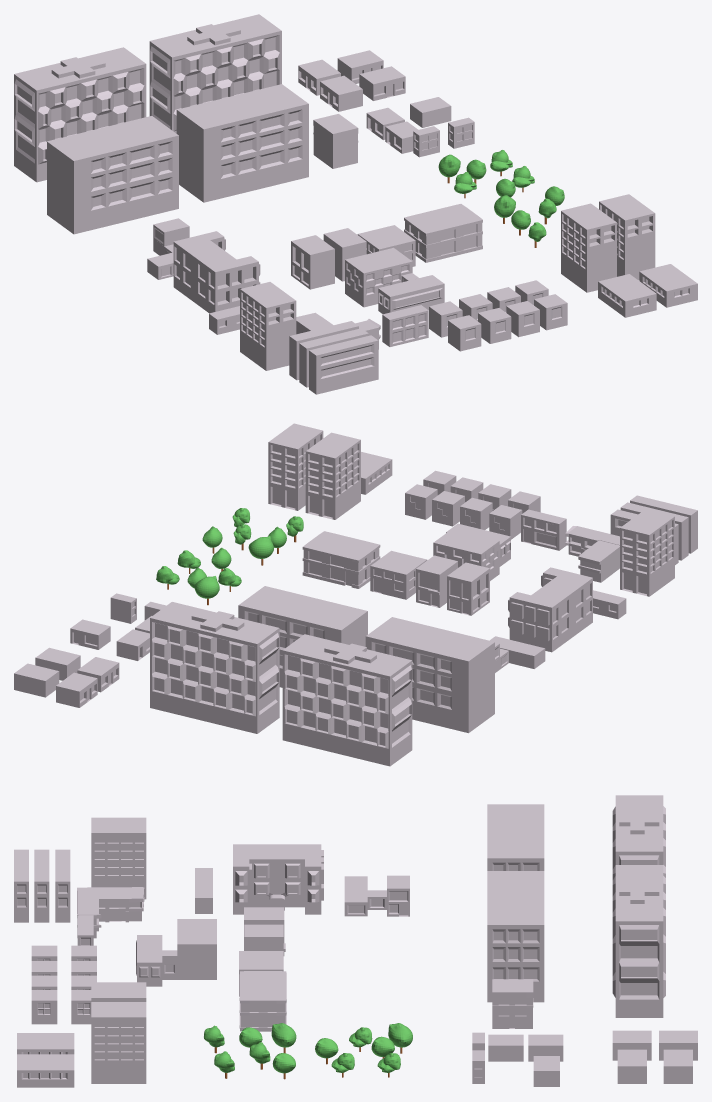
Rendered from city - new map.fbx.
3 views of the same model, one above another, from view 1: azimuth 30°, elevation 25°; view 2: azimuth 150°, elevation 25°; view 3: azimuth 270°, elevation 25° (orthographic). The views are drawn at different scales.
Visible parts, largest first — view 1: Cube.003, Cube.041, Cube.025, Cube.042, Cube.040, Cube.037, Cube.028, Cube.021, Cube.010, Cube.029, Cube.008, Cube.031 (+27 smaller); view 2: Cube.025, Cube.042, Cube.003, Cube.040, Cube.041, Cube.028, Cube.037, Cube.021, Cube.029, Cube.008, Cube.004, Cube.015 (+25 smaller); view 3: Cube.042, Cube.041, Cube.040, Cube.029, Cube.037, Cube.003, Cube.025, Cube.021, Cube.008, Cube.031, Cube.050, Cube.012 (+26 smaller).
Boxes of the visible parts, left/top/right/bottom form: Cube.003: left=47, top=116, right=178, bottom=234; Cube.041: left=176, top=84, right=308, bottom=202; Cube.025: left=14, top=47, right=146, bottom=182; Cube.042: left=149, top=14, right=281, bottom=133; Cube.040: left=173, top=231, right=260, bottom=313; Cube.037: left=240, top=282, right=296, bottom=370; Cube.028: left=561, top=203, right=616, bottom=292; Cube.021: left=404, top=204, right=482, bottom=262; Cube.010: left=309, top=335, right=378, bottom=394; Cube.029: left=599, top=194, right=655, bottom=280; Cube.008: left=345, top=247, right=412, bottom=307; Cube.031: left=313, top=114, right=358, bottom=168; Cube.025: left=282, top=634, right=412, bottom=766; Cube.042: left=150, top=602, right=279, bottom=733; Cube.003: left=365, top=617, right=494, bottom=733; Cube.040: left=508, top=567, right=592, bottom=652; Cube.041: left=238, top=586, right=367, bottom=687; Cube.028: left=305, top=432, right=360, bottom=519; Cube.037: left=620, top=509, right=674, bottom=596; Cube.021: left=302, top=531, right=380, bottom=588; Cube.029: left=268, top=423, right=323, bottom=510; Cube.008: left=433, top=529, right=499, bottom=580; Cube.004: left=370, top=550, right=427, bottom=599; Cube.015: left=447, top=562, right=489, bottom=615; Cube.042: left=612, top=865, right=665, bottom=1017; Cube.041: left=487, top=871, right=544, bottom=1002; Cube.040: left=233, top=844, right=323, bottom=914; Cube.029: left=91, top=1002, right=146, bottom=1083; Cube.037: left=91, top=817, right=146, bottom=899; Cube.003: left=487, top=804, right=544, bottom=870; Cube.025: left=612, top=795, right=665, bottom=879; Cube.021: left=239, top=971, right=286, bottom=1031; Cube.008: left=177, top=919, right=216, bottom=979; Cube.031: left=492, top=979, right=533, bottom=1028; Cube.050: left=17, top=1054, right=74, bottom=1087; Cube.012: left=77, top=887, right=144, bottom=922.
Size of the model in its own units: 5767 by 1337 by 8091.
